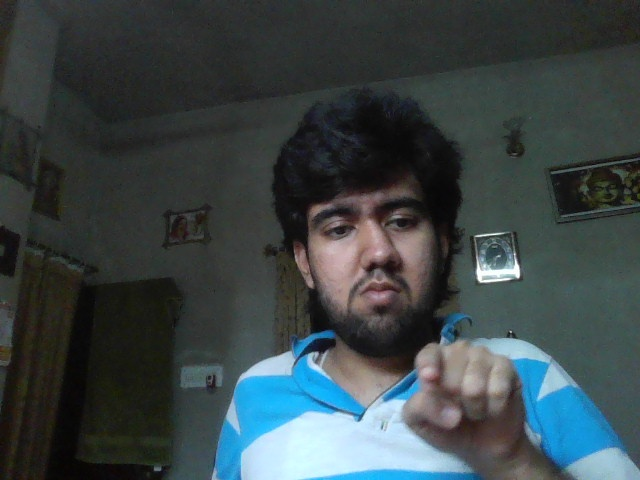You: (401, 341, 528, 461)
